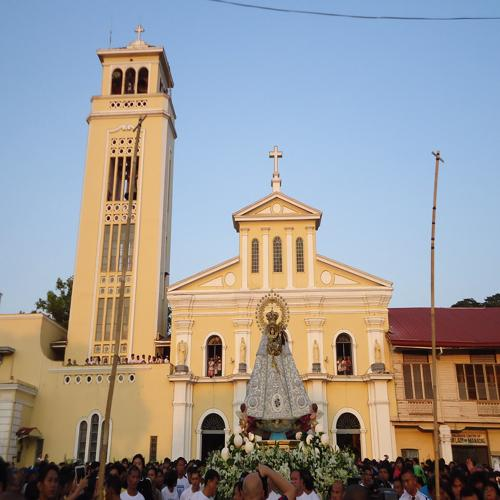Manaoag Church: (68, 20, 393, 472)
